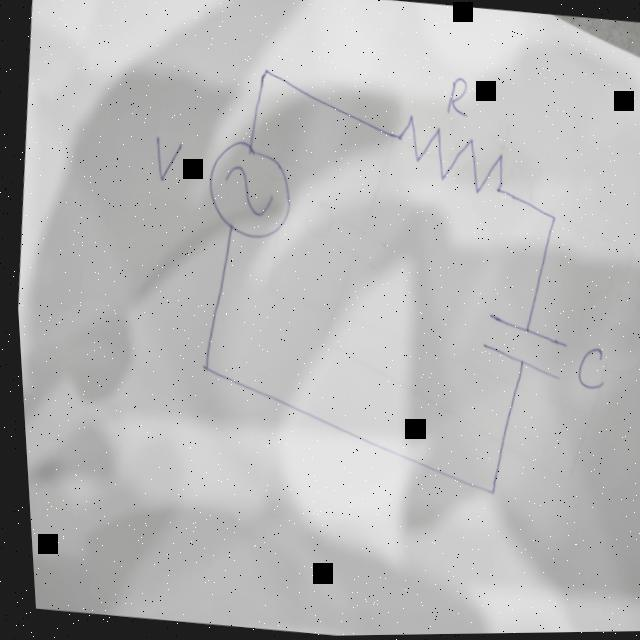capacitor: (471, 310, 568, 384)
junction: (254, 62, 273, 85), (191, 358, 208, 377), (543, 210, 555, 227), (479, 485, 491, 500)
resistor: (384, 111, 508, 202)
source: (196, 134, 297, 243)
text: (148, 133, 184, 184), (568, 345, 603, 392), (440, 76, 472, 119)
